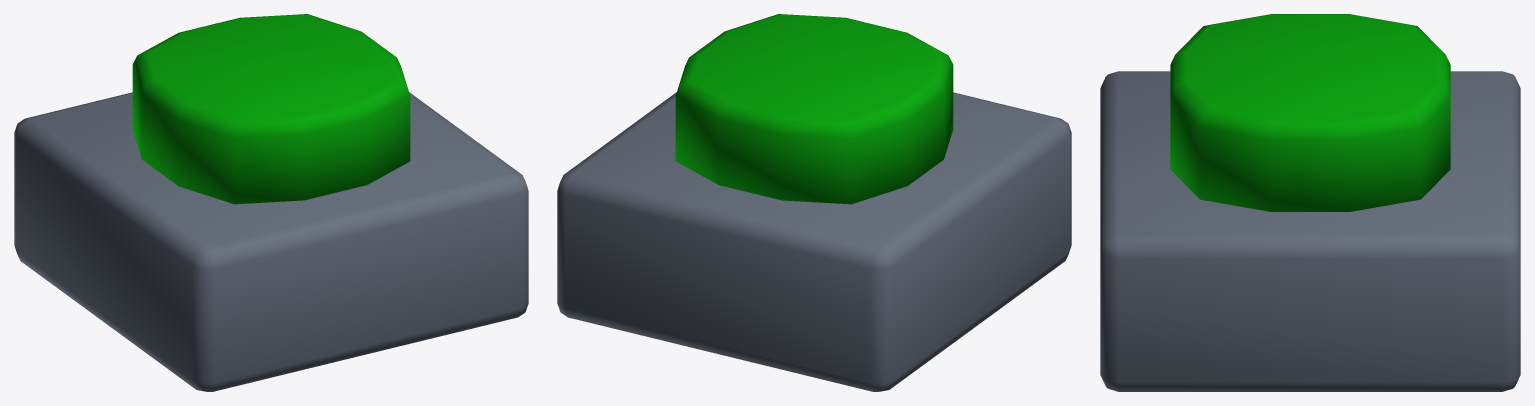
Rendered from button.fbx.
The picture shows the model from 3 angles, left to right: view 1: azimuth 30°, elevation 25°; view 2: azimuth 150°, elevation 25°; view 3: azimuth 270°, elevation 25°; orthographic projection. The views are drawn at different scales.
Visible parts, largest first — view 1: button; view 2: button; view 3: button.
Part boxes in pixels (<box>): button: <box>14,14,528,391</box>; button: <box>557,14,1071,391</box>; button: <box>1100,14,1520,391</box>.
Bounding box in the file's own units: 200 × 200 × 128.
